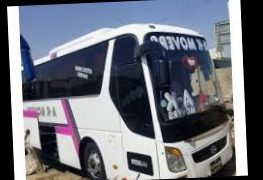bus: (20, 20, 235, 180)
